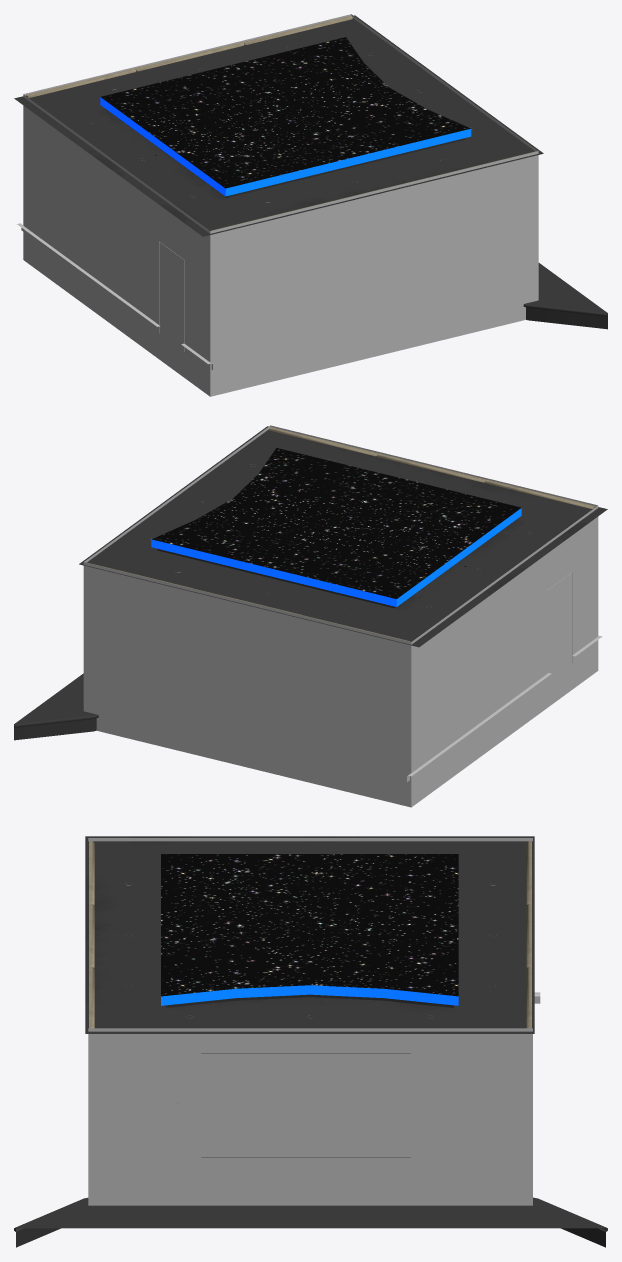
The model's file is small_theatre.fbx.
3 views of the same model, one above another, from view 1: azimuth 30°, elevation 25°; view 2: azimuth 150°, elevation 25°; view 3: azimuth 270°, elevation 25° (orthographic). The views are drawn at different scales.
Visible parts, largest first — view 1: Plane.015, Plane.011; view 2: Plane.015, Plane.011; view 3: Plane.011, Plane.015.
Part boxes in pixels (x1,y1,x2,y2): Plane.015: (17,14,538,396); Plane.011: (14,15,607,329); Plane.015: (83,425,602,807); Plane.011: (14,426,607,740); Plane.011: (14,836,607,1247); Plane.015: (88,838,540,1205).
Size of the model in its own units: 1061 by 471 by 1223.
